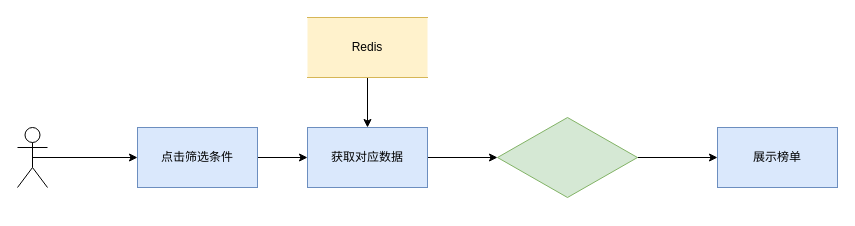
Image size: 855x226. Some labels were removed from this diagram. The shapes that lost their labels are listed below. From the top down, each one's box as (x1, y1, x2, y2) in pixels, then its label:
(16, 126, 48, 188): 主播
(496, 116, 638, 198): 按条件过滤排序
